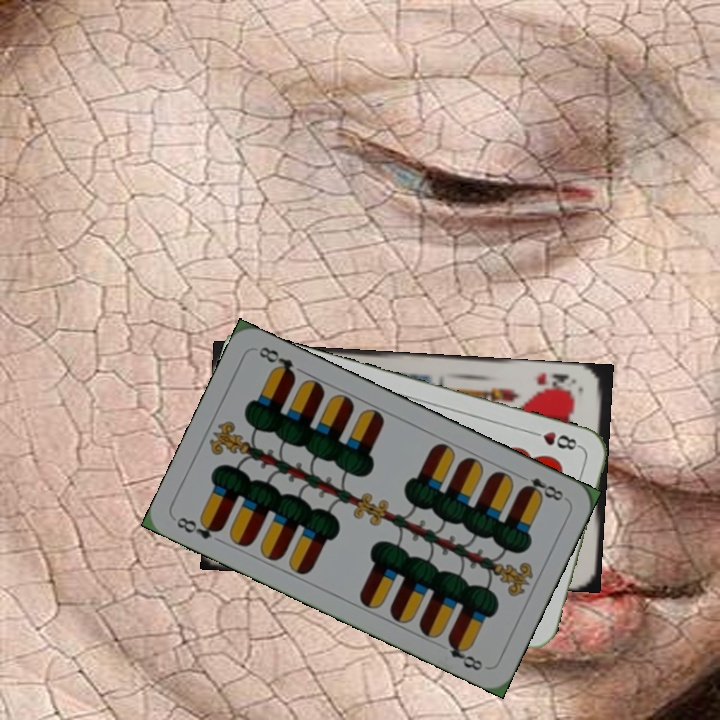E8: (515, 470, 569, 504), (172, 513, 226, 542)
H8: (525, 427, 583, 453)
HK: (532, 368, 579, 396)
